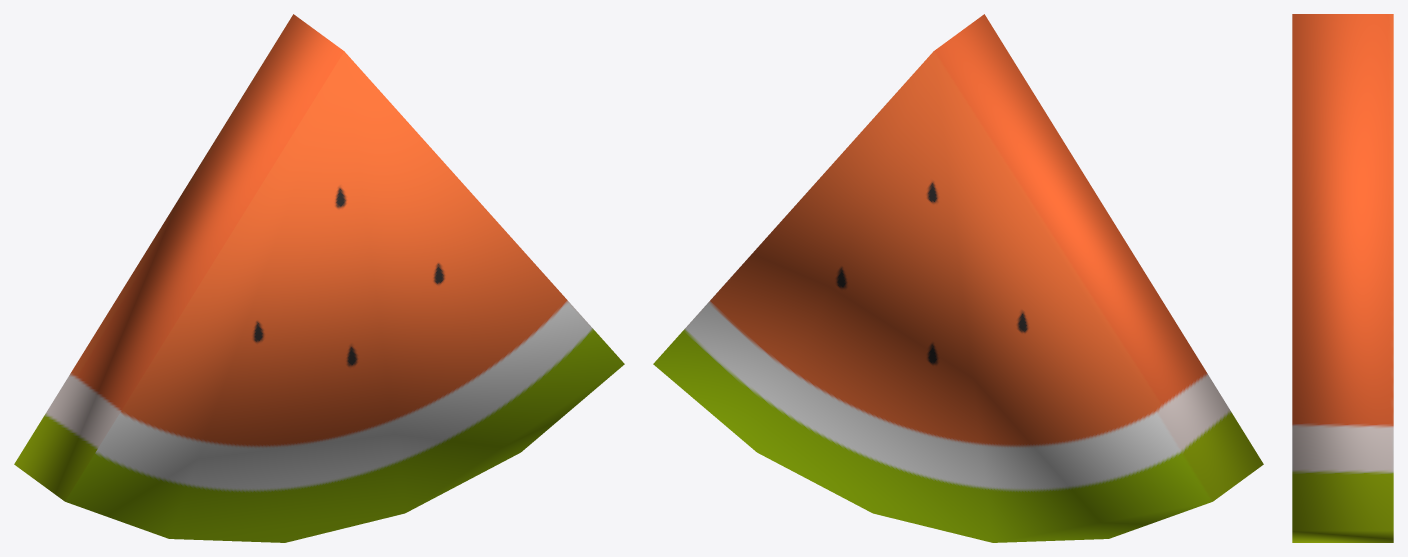
File: ENV1810027.fbx
The picture shows the model from 3 angles, left to right: view 1: azimuth 30°, elevation 25°; view 2: azimuth 150°, elevation 25°; view 3: azimuth 270°, elevation 25°; orthographic projection.
Parts seen in each view (by area): view 1: smENV1810027; view 2: smENV1810027; view 3: smENV1810027.
Part boxes in pixels (left/top/right/bottom): smENV1810027: left=14, top=14, right=624, bottom=542; smENV1810027: left=653, top=14, right=1263, bottom=542; smENV1810027: left=1292, top=14, right=1393, bottom=542.
Size of the model in its own units: 21.68 by 17.66 by 3.41.
1 material, 1 textured.
